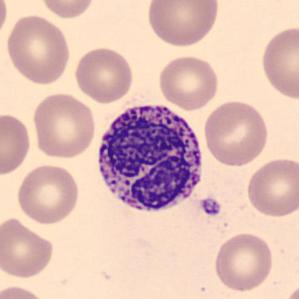Basophil: (92, 95, 208, 220)
Platelets: (199, 196, 223, 217)
RBC: (5, 12, 72, 86), (202, 97, 271, 168), (30, 90, 97, 160), (14, 161, 81, 226), (212, 230, 275, 293), (72, 44, 136, 105), (144, 0, 222, 49), (0, 215, 56, 280), (156, 54, 221, 110), (244, 156, 298, 219), (258, 23, 298, 102), (0, 110, 33, 178), (37, 0, 97, 20), (0, 283, 49, 299), (0, 0, 10, 43), (284, 282, 298, 299)
